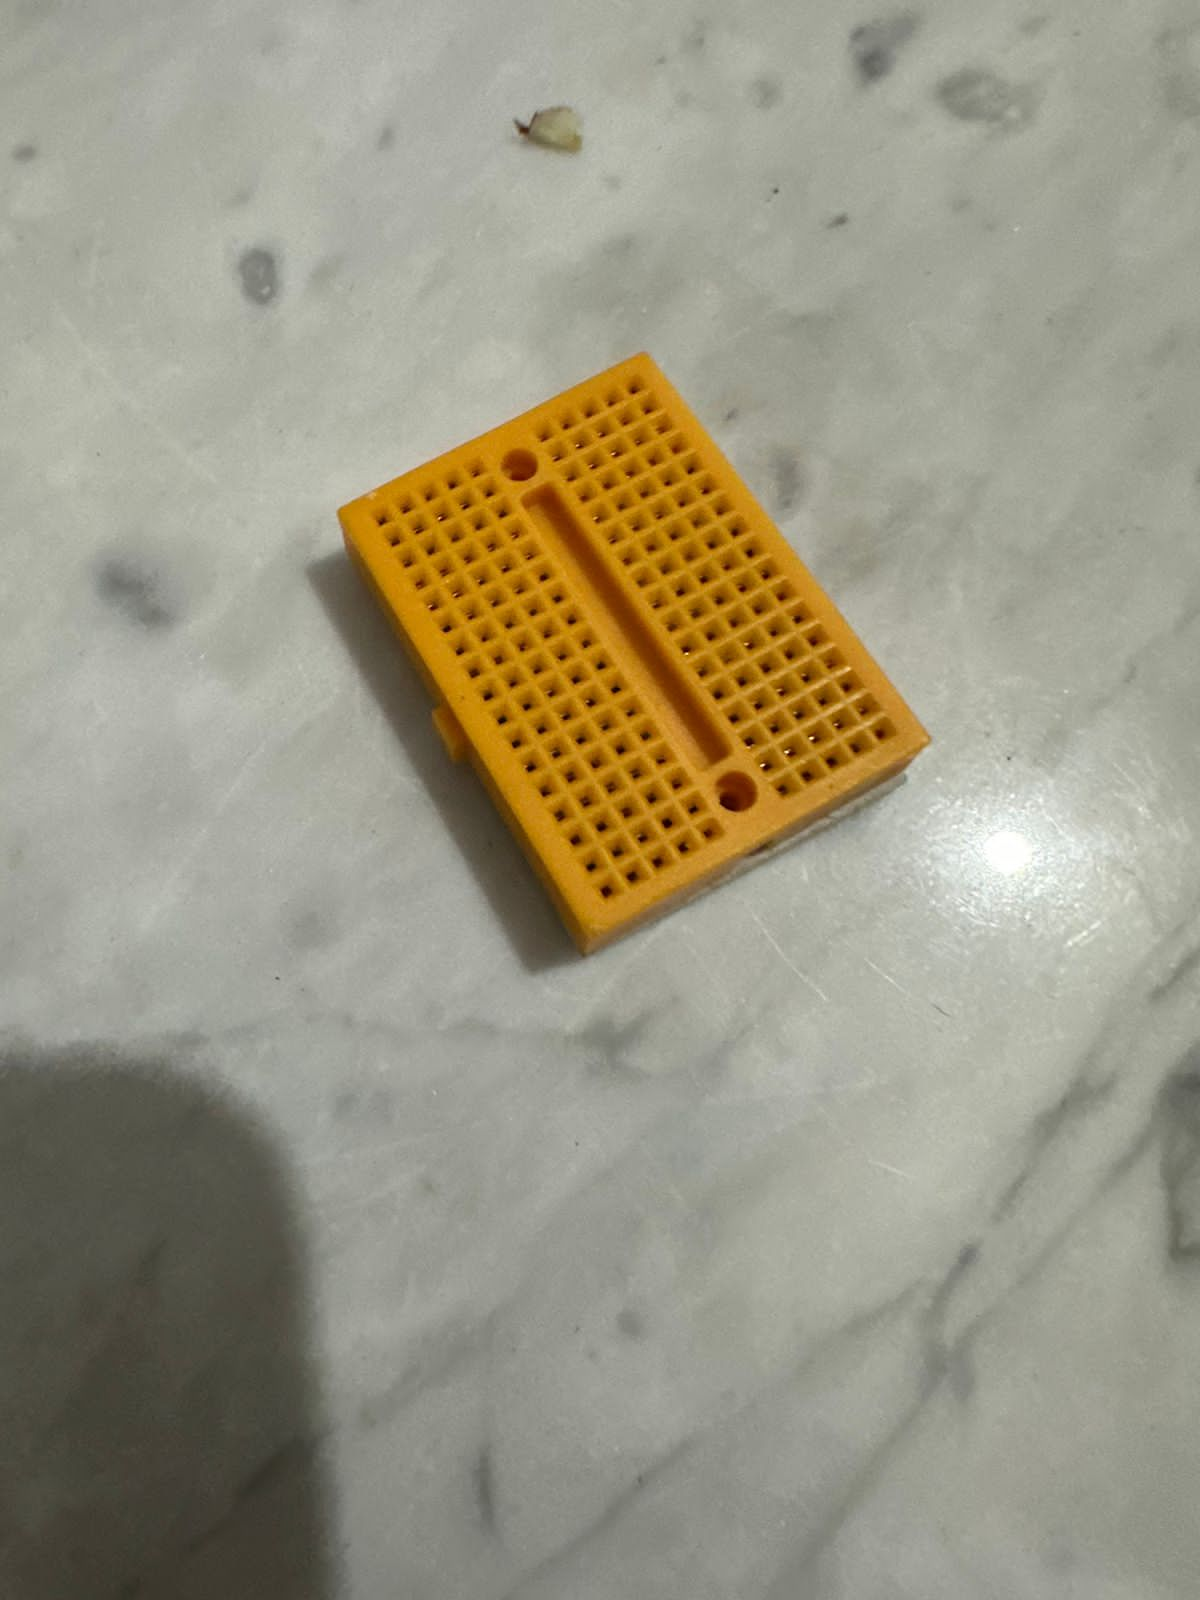breadboard: (337, 341, 934, 957)
